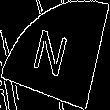N_S: (34, 24, 76, 86)
